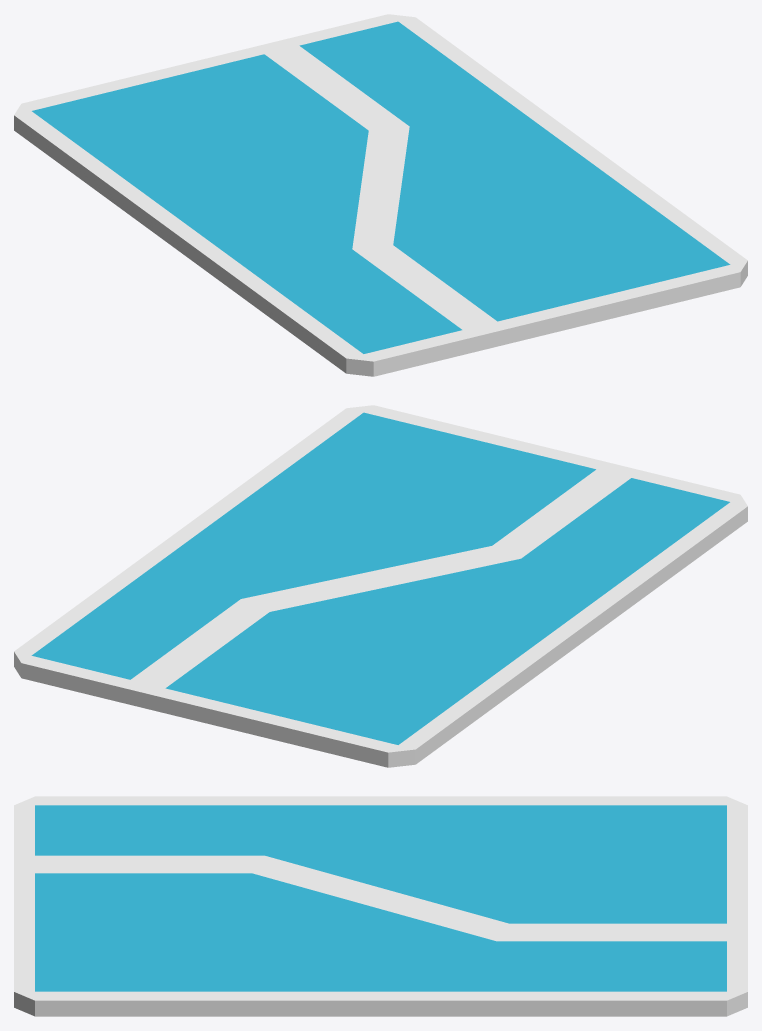
The model's file is Keycard.fbx.
3 views of the same model, one above another, from view 1: azimuth 30°, elevation 25°; view 2: azimuth 150°, elevation 25°; view 3: azimuth 270°, elevation 25° (orthographic). The views are drawn at different scales.
Visible parts, largest first — view 1: Keycard; view 2: Keycard; view 3: Keycard.
Part boxes in pixels (box(x1,y1,x2,y2)): Keycard: box(14, 14, 747, 376); Keycard: box(14, 405, 747, 767); Keycard: box(14, 796, 747, 1016).
Size of the model in its own units: 4.61 by 0.1668 by 7.
1 material, 1 textured.
